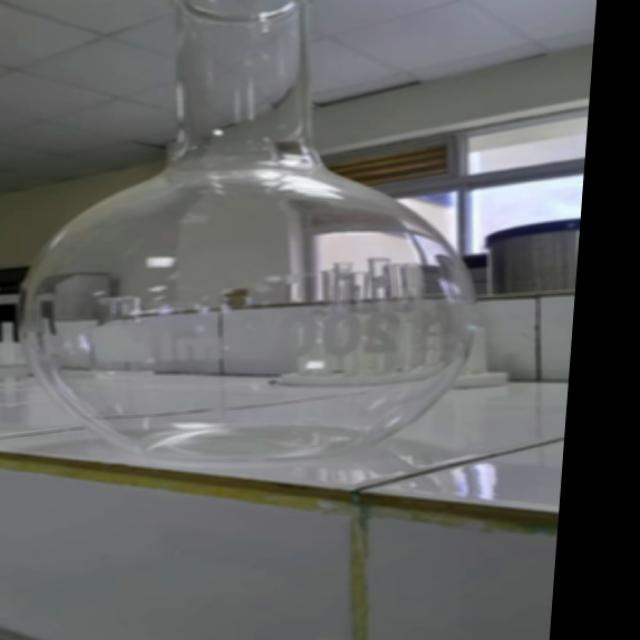Round Bottom Flask: (2, 0, 506, 473)
